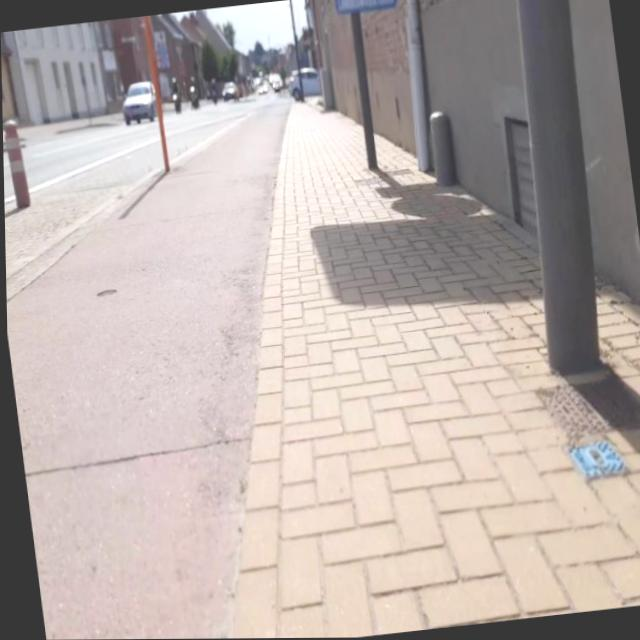Automobile: (122, 81, 155, 124), (288, 68, 320, 98), (222, 81, 237, 100), (189, 78, 197, 108), (255, 80, 269, 94), (172, 82, 178, 113)
Obstacle: (516, 0, 601, 380), (418, 0, 525, 215), (570, 0, 640, 299), (362, 0, 417, 154), (312, 0, 359, 122), (349, 11, 376, 169), (142, 16, 168, 172), (503, 118, 535, 237), (3, 120, 28, 207), (428, 111, 455, 185)
Road: (3, 116, 160, 298), (165, 102, 254, 160)
Sidewalk: (228, 104, 640, 639), (5, 103, 286, 640)
